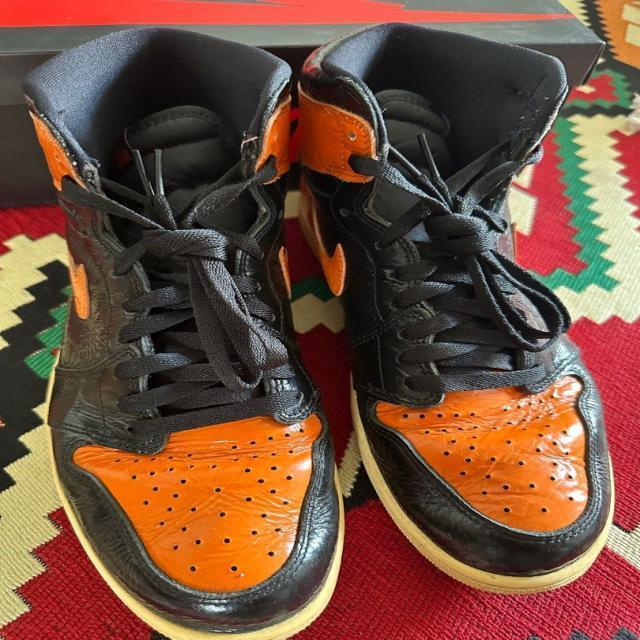nike original jordan 1: (258, 21, 614, 594), (19, 29, 347, 640)
